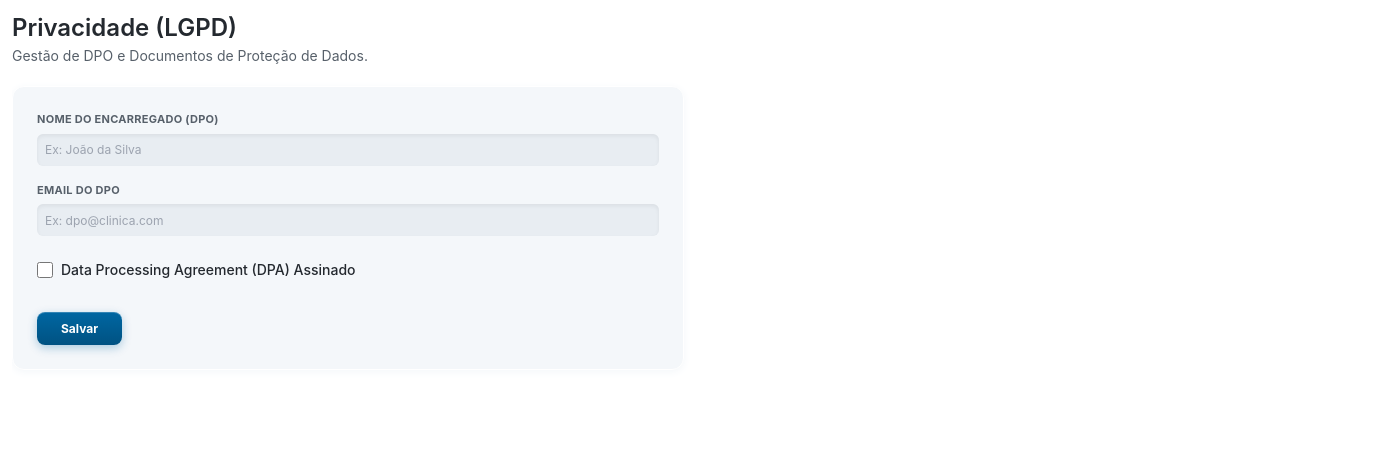
PrivacidadePage › renders error state on save failure
Expected: the text "Nome do Encarregado (DPO)" is shown, [37,112,219,126]
Step 1. Click the button "Salvar" → (80, 328), box [37,312,122,345]
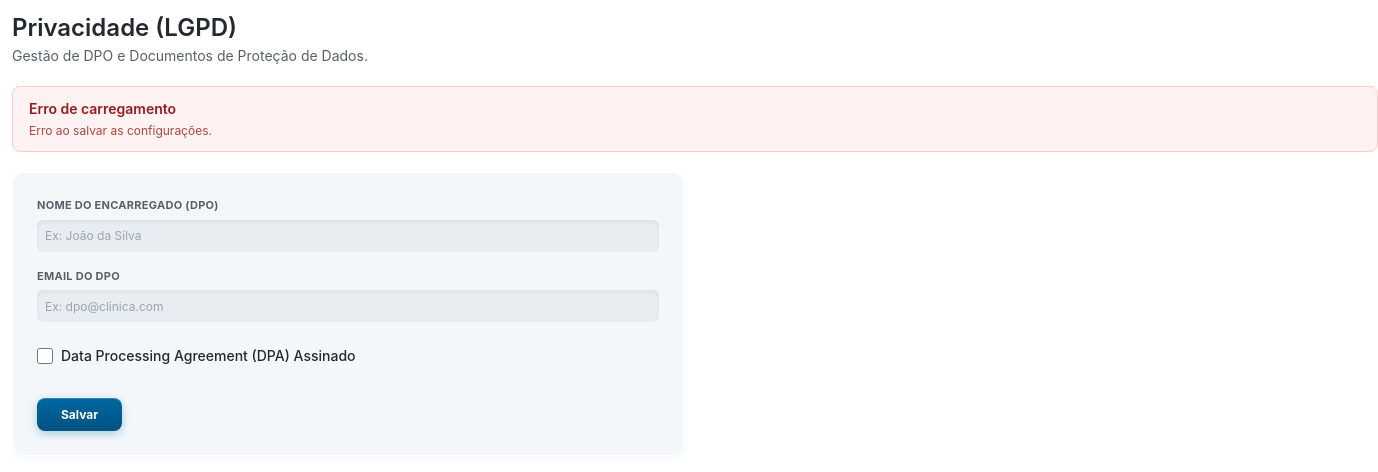
Expected: the text "Erro ao salvar as configurações." is shown, [29,123,212,138]
